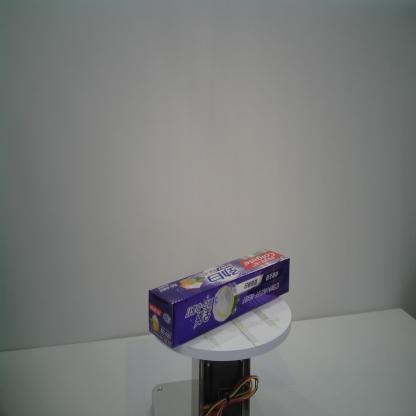Personal Hygiene: (148, 249, 289, 349)
